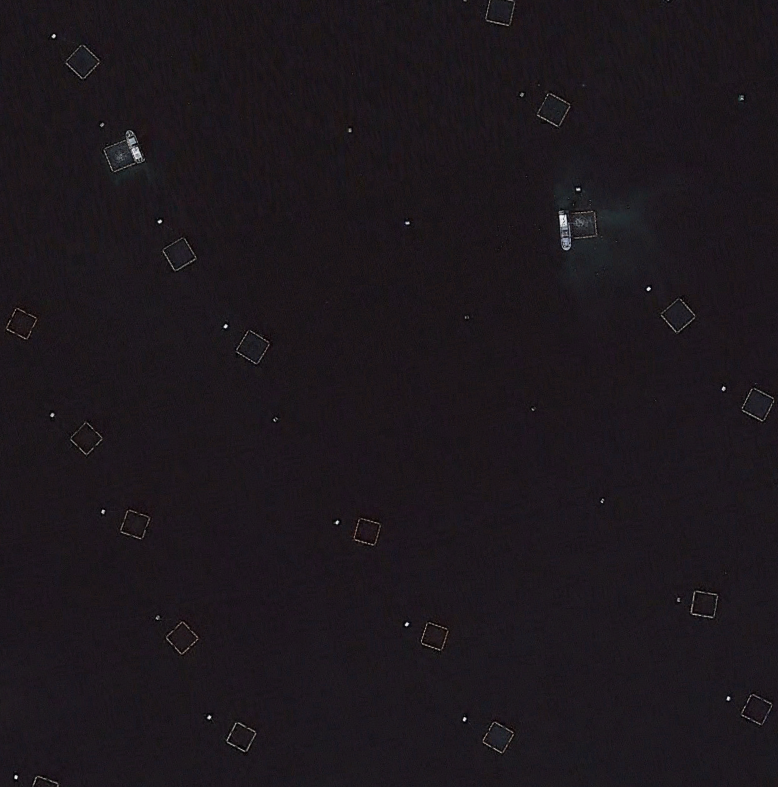ship: (547, 204, 577, 257), (124, 121, 148, 170)
square: (470, 713, 521, 758), (229, 324, 278, 368), (61, 417, 110, 460), (157, 233, 203, 275), (558, 200, 602, 243), (59, 39, 104, 81), (159, 617, 206, 657), (657, 293, 700, 334), (1, 304, 43, 345), (737, 378, 778, 420), (415, 614, 457, 655), (100, 136, 143, 176), (532, 88, 575, 126), (222, 719, 265, 756), (736, 689, 778, 726), (347, 512, 389, 548), (115, 505, 154, 543), (688, 582, 724, 623)
